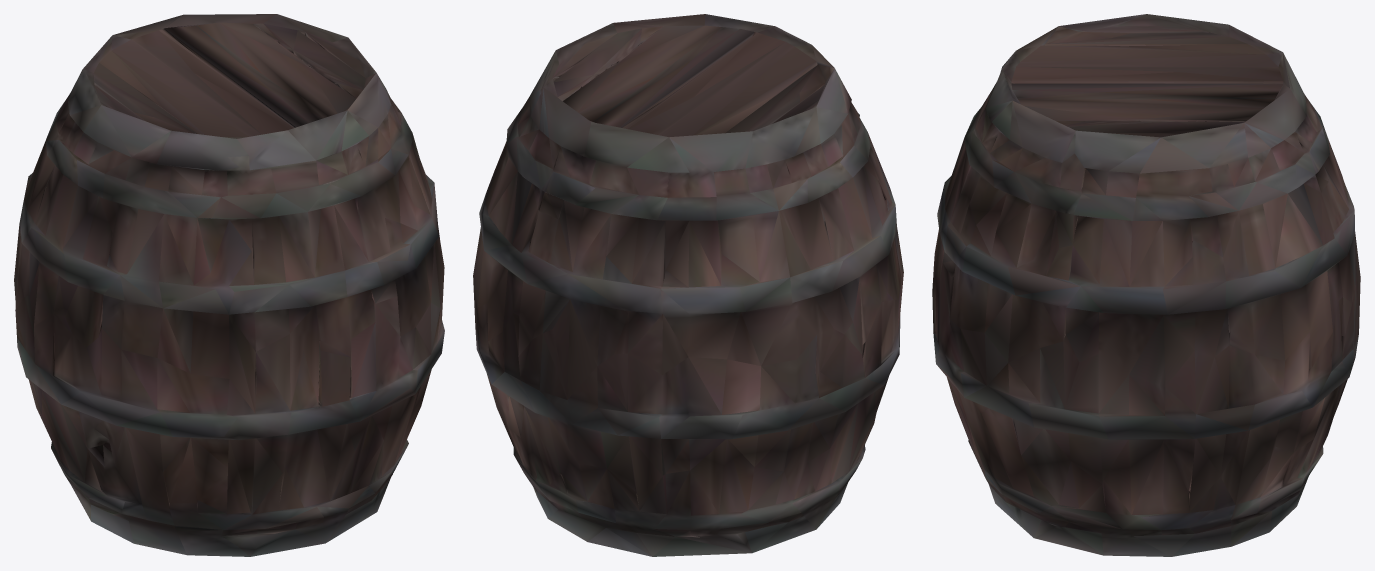
Rendered from barrel.glb.
3 renders of one model, left to right at view 1: azimuth 30°, elevation 25°; view 2: azimuth 150°, elevation 25°; view 3: azimuth 270°, elevation 25°, orthographic.
Visible parts, largest first — view 1: Mesh_0; view 2: Mesh_0; view 3: Mesh_0.
Part boxes in pixels (bbox=[...]): Mesh_0: bbox=[14, 14, 444, 556]; Mesh_0: bbox=[473, 14, 903, 556]; Mesh_0: bbox=[932, 14, 1360, 556].
Bounding box in the file's own units: 1.76 × 1.9 × 1.76.
Materials: 1 (1 with a texture image).
